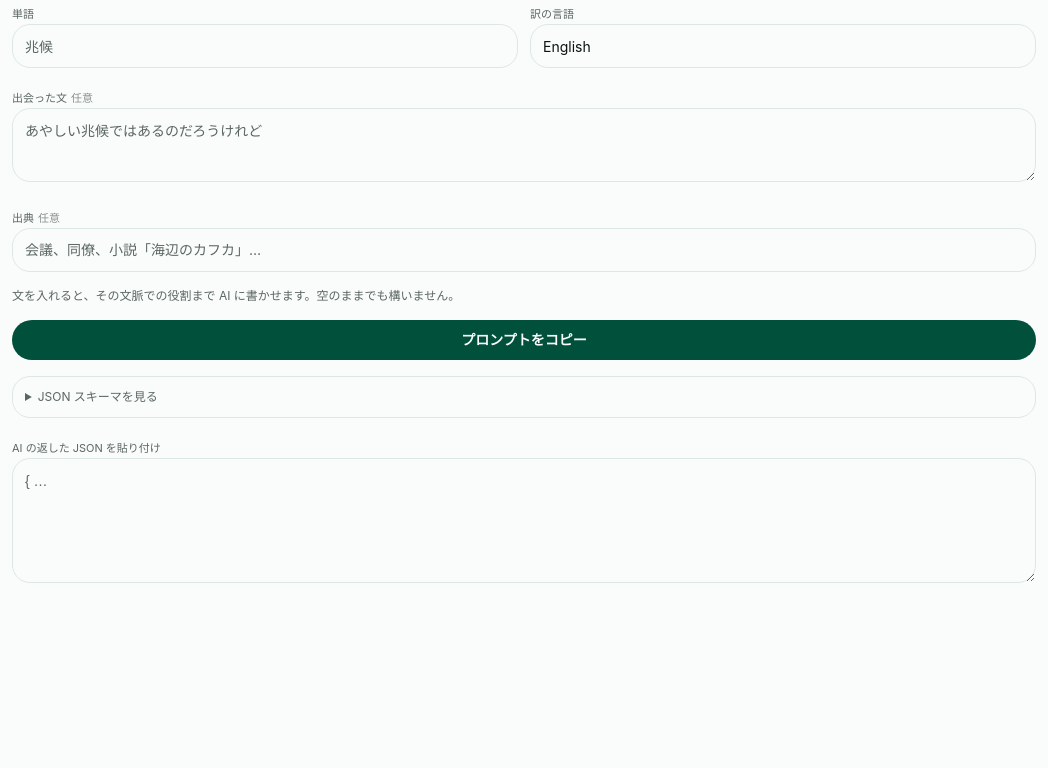
Test: JsonImport — translation language preference › keeps a manual language override in the prompt instead of restoring the saved default
The image size is (1048, 768).
Replace the text in the field labelled "訳の言語" with "廣東話" at (783, 46), box [530,24,1036,68]
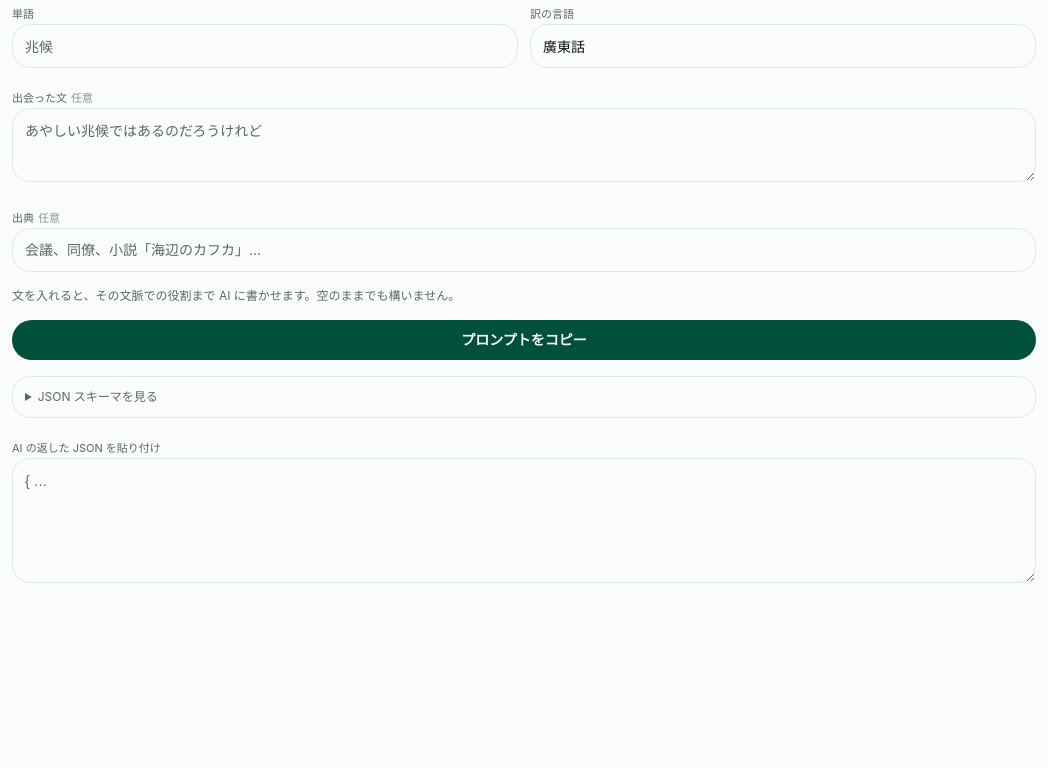
Click the button "プロンプトをコピー".
click(524, 340)  # box [12,320,1036,360]
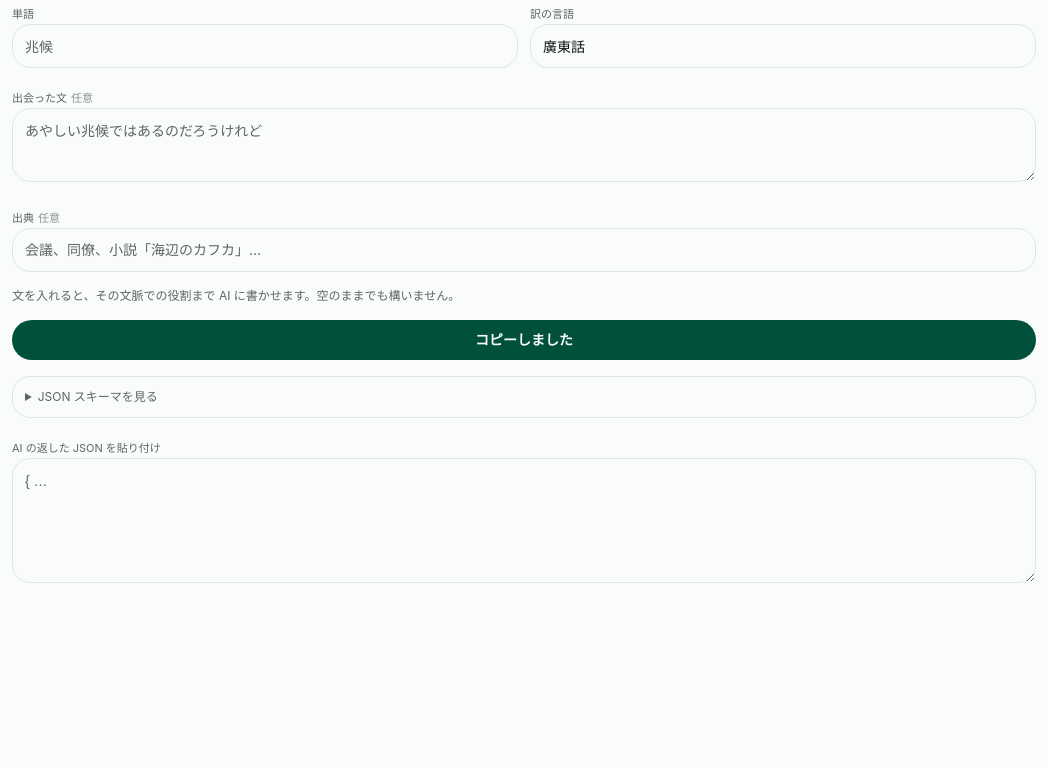
Check: the button "コピーしました" is shown, box [12,320,1036,360]
